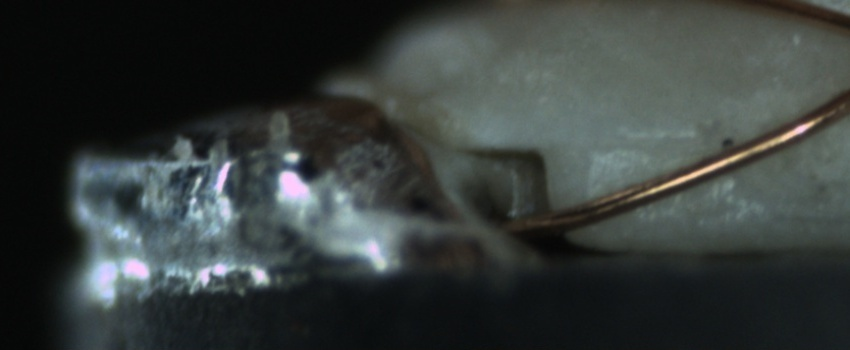DL: (579, 109, 709, 175)
